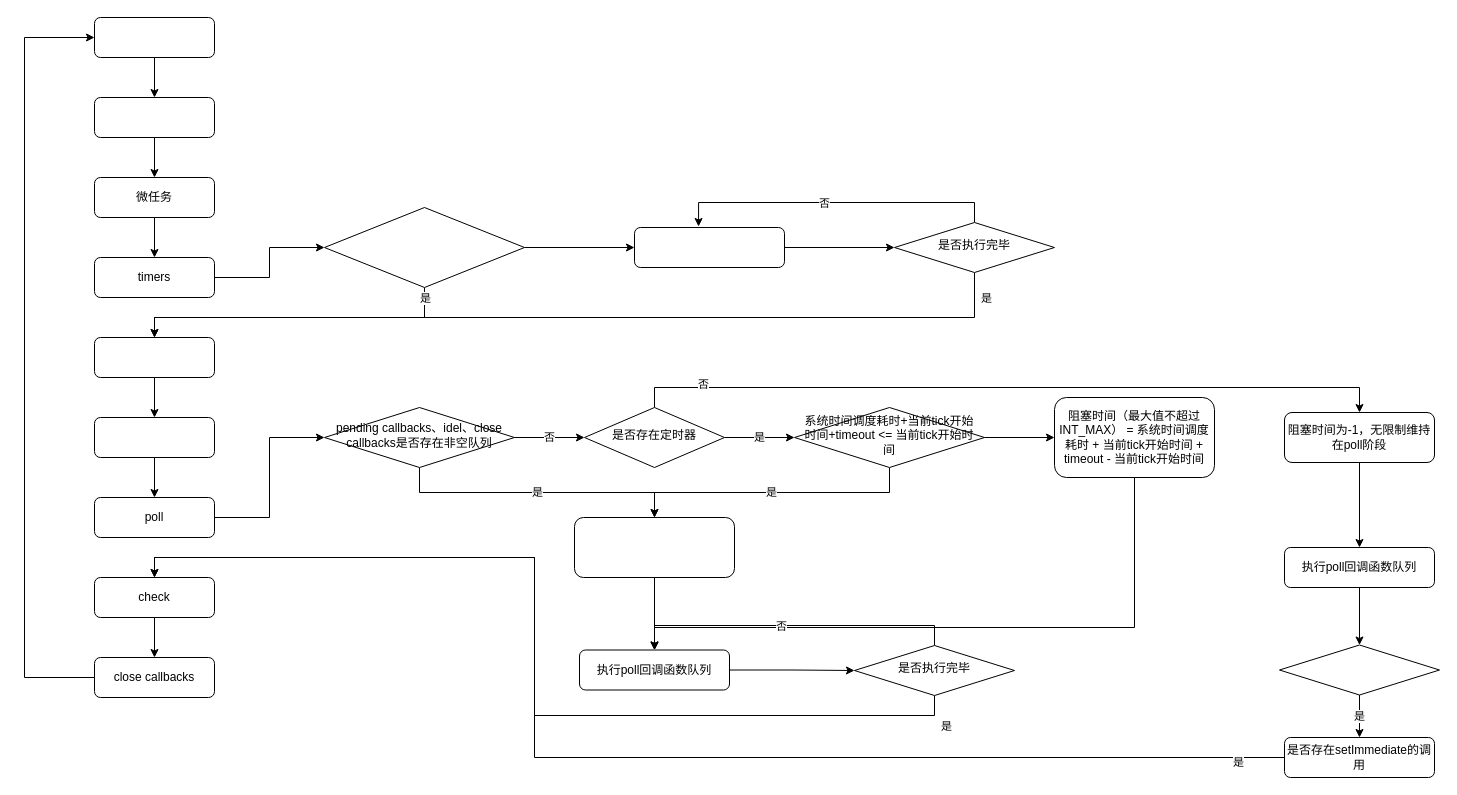
This 1457x795 diagram has some shape labels left out. Each missing label, with the centre of its shape:
idle, prepare: the point at 154,437
pending callbacks: the point at 154,357
process.nextTick(): the point at 154,117
当前是否空队列: the point at 1359,669
执行timer回调函数队列: the point at 709,247
执行栈: the point at 154,37
系统时间调度耗时+当前tick开始时间+timeout > 当前tick开始时间: the point at 424,247
阻塞时间为0，不阻塞，尽快进入下一个tick处理对应的队列回调: the point at 654,547
